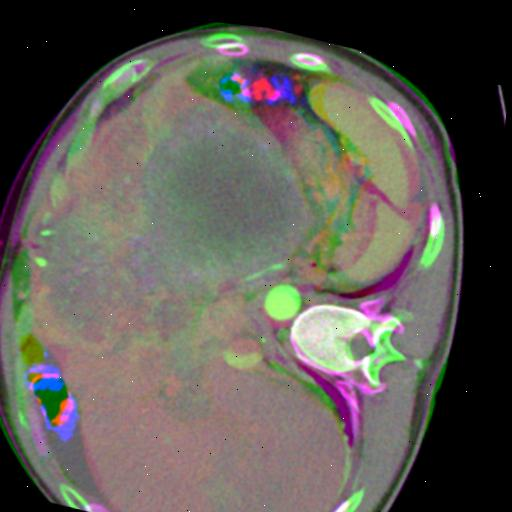Tumor: (47, 226, 219, 342)
